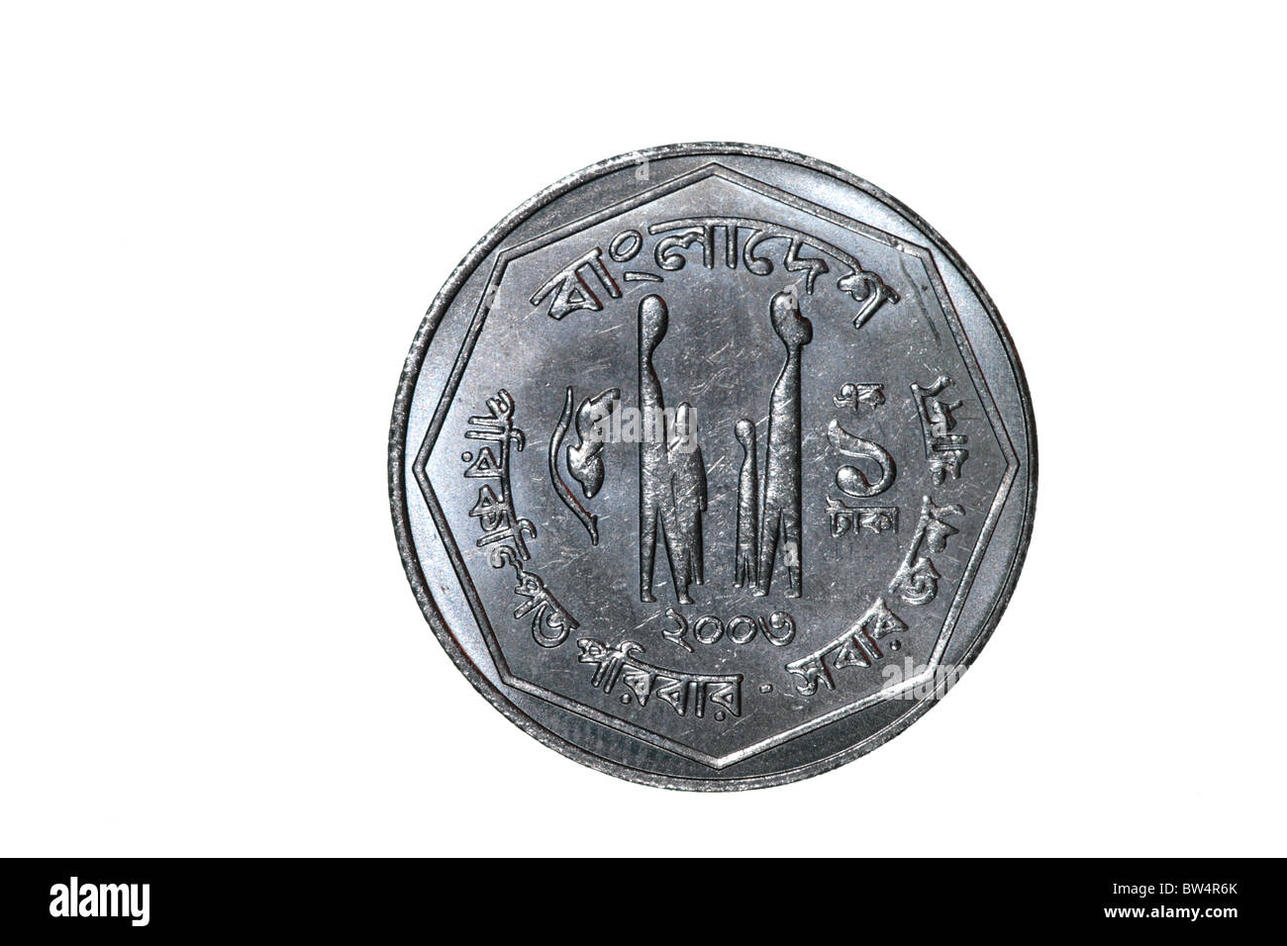2 taka coin: (385, 142, 1037, 793)
